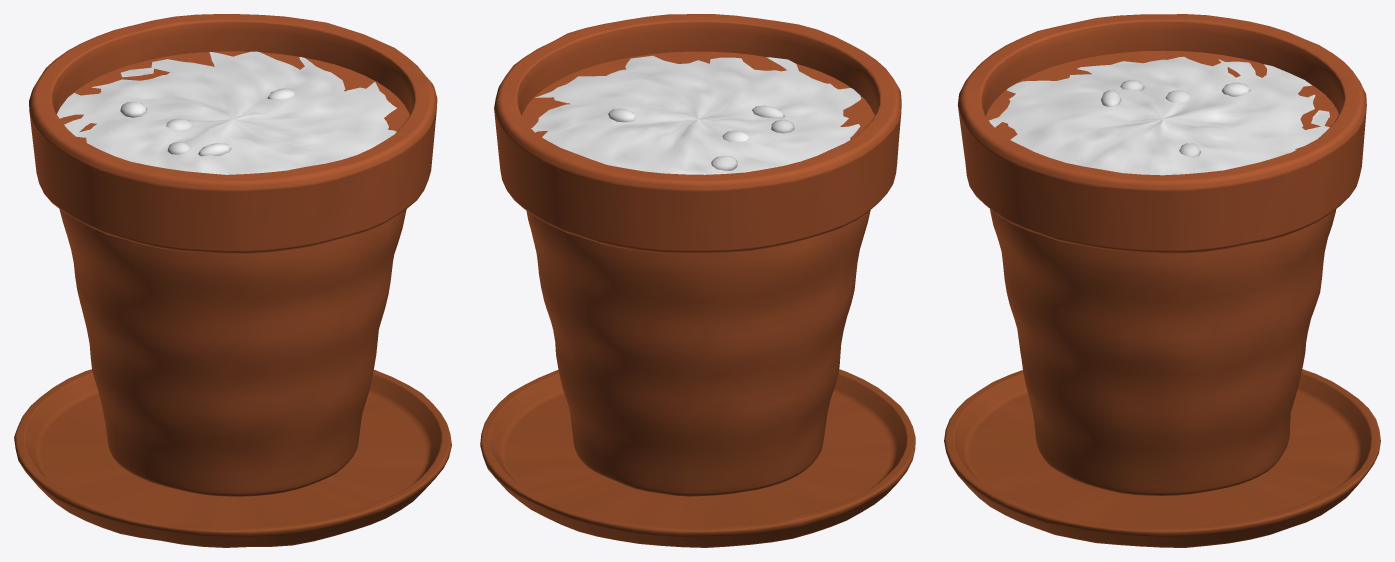
File: prop-flowerpot.glb
3 renders of one model, left to right at view 1: azimuth 30°, elevation 25°; view 2: azimuth 150°, elevation 25°; view 3: azimuth 270°, elevation 25°, orthographic.
Visible parts, largest first — view 1: body, soil; view 2: body, soil; view 3: body, soil.
Boxes of the visible parts, x1,y1,x2,y2 form: body: [14, 14, 451, 547]; soil: [57, 51, 396, 174]; body: [480, 14, 915, 547]; soil: [531, 55, 861, 174]; body: [944, 14, 1380, 547]; soil: [989, 56, 1329, 175].
Size of the model in its own units: 0.1602 by 0.1509 by 0.1599.
2 materials, 1 textured.
